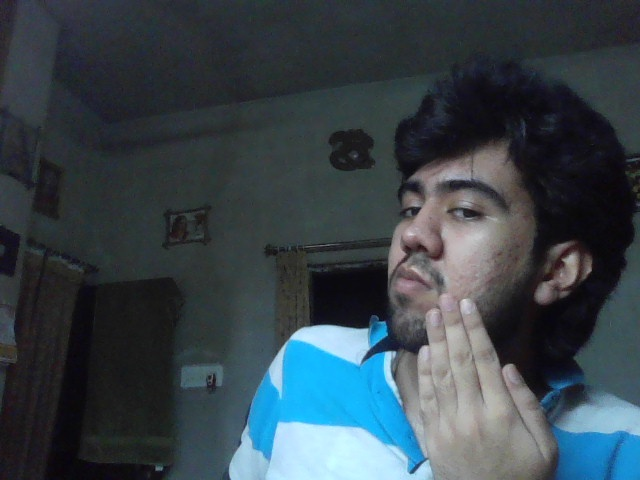ThankYou: (416, 292, 559, 480)
